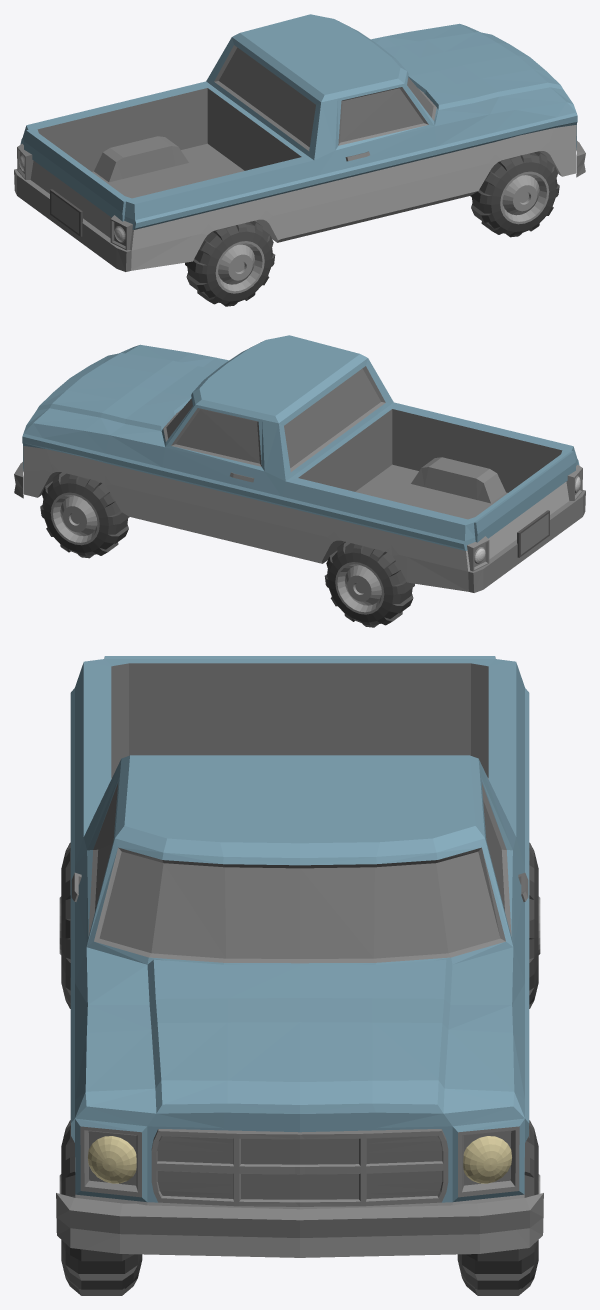
File: pickup.glb
3 views of the same model, one above another, from view 1: azimuth 30°, elevation 25°; view 2: azimuth 150°, elevation 25°; view 3: azimuth 270°, elevation 25° (orthographic). The views are drawn at different scales.
Visible parts, largest first — view 1: hull, wheels; view 2: hull, wheels; view 3: hull, wheels.
Part boxes in pixels (box(x1,y1,x2,y2)): hull: box(14, 14, 585, 271); wheels: box(185, 151, 559, 306); hull: box(14, 335, 585, 592); wheels: box(40, 472, 414, 627); hull: box(56, 656, 543, 1257); wheels: box(59, 842, 540, 1295).
Bounding box in the file's own units: 5.18 × 1.85 × 2.31.
